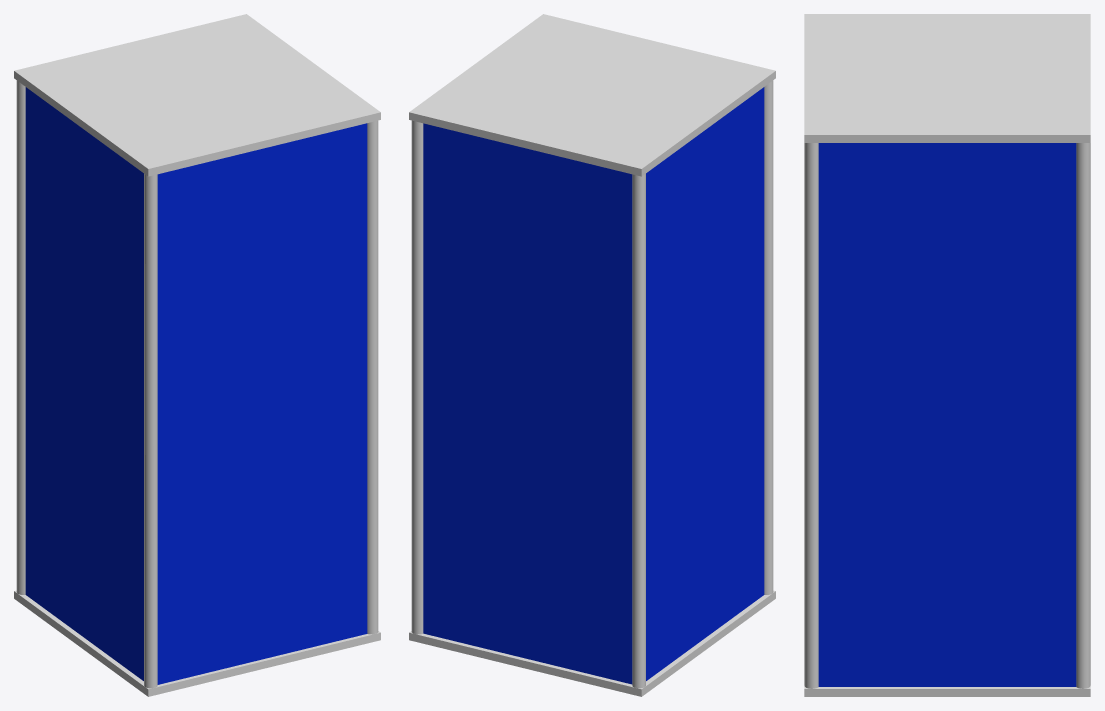
Rendered from vitrinekast.fbx.
3 views of the same model, side by side, from view 1: azimuth 30°, elevation 25°; view 2: azimuth 150°, elevation 25°; view 3: azimuth 270°, elevation 25° (orthographic). The views are drawn at different scales.
Visible parts, largest first — view 1: Cube; view 2: Cube; view 3: Cube.
Boxes of the visible parts, left/top/right/bottom form: Cube: left=14, top=14, right=380, bottom=696; Cube: left=409, top=14, right=775, bottom=696; Cube: left=804, top=14, right=1090, bottom=696.
Size of the model in its own units: 84.21 by 183 by 84.21.
